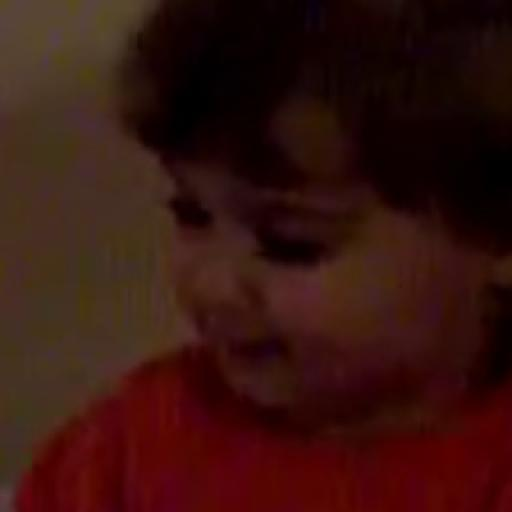Autism: (114, 51, 512, 460)
